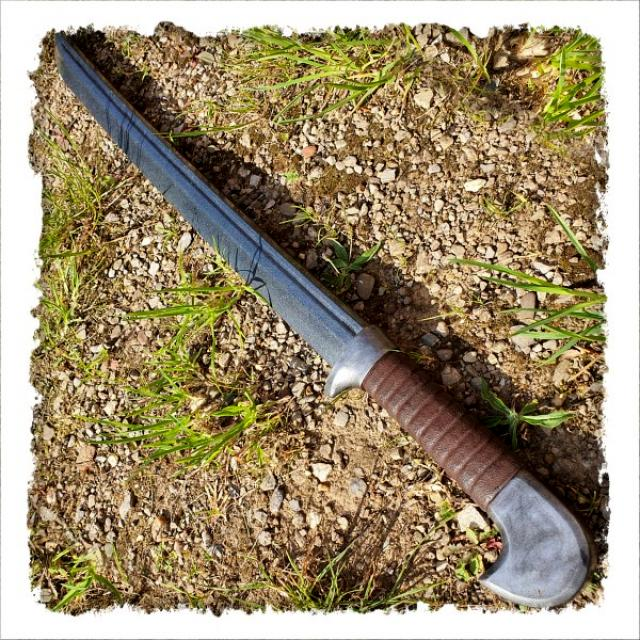short sword: (43, 32, 600, 605)
